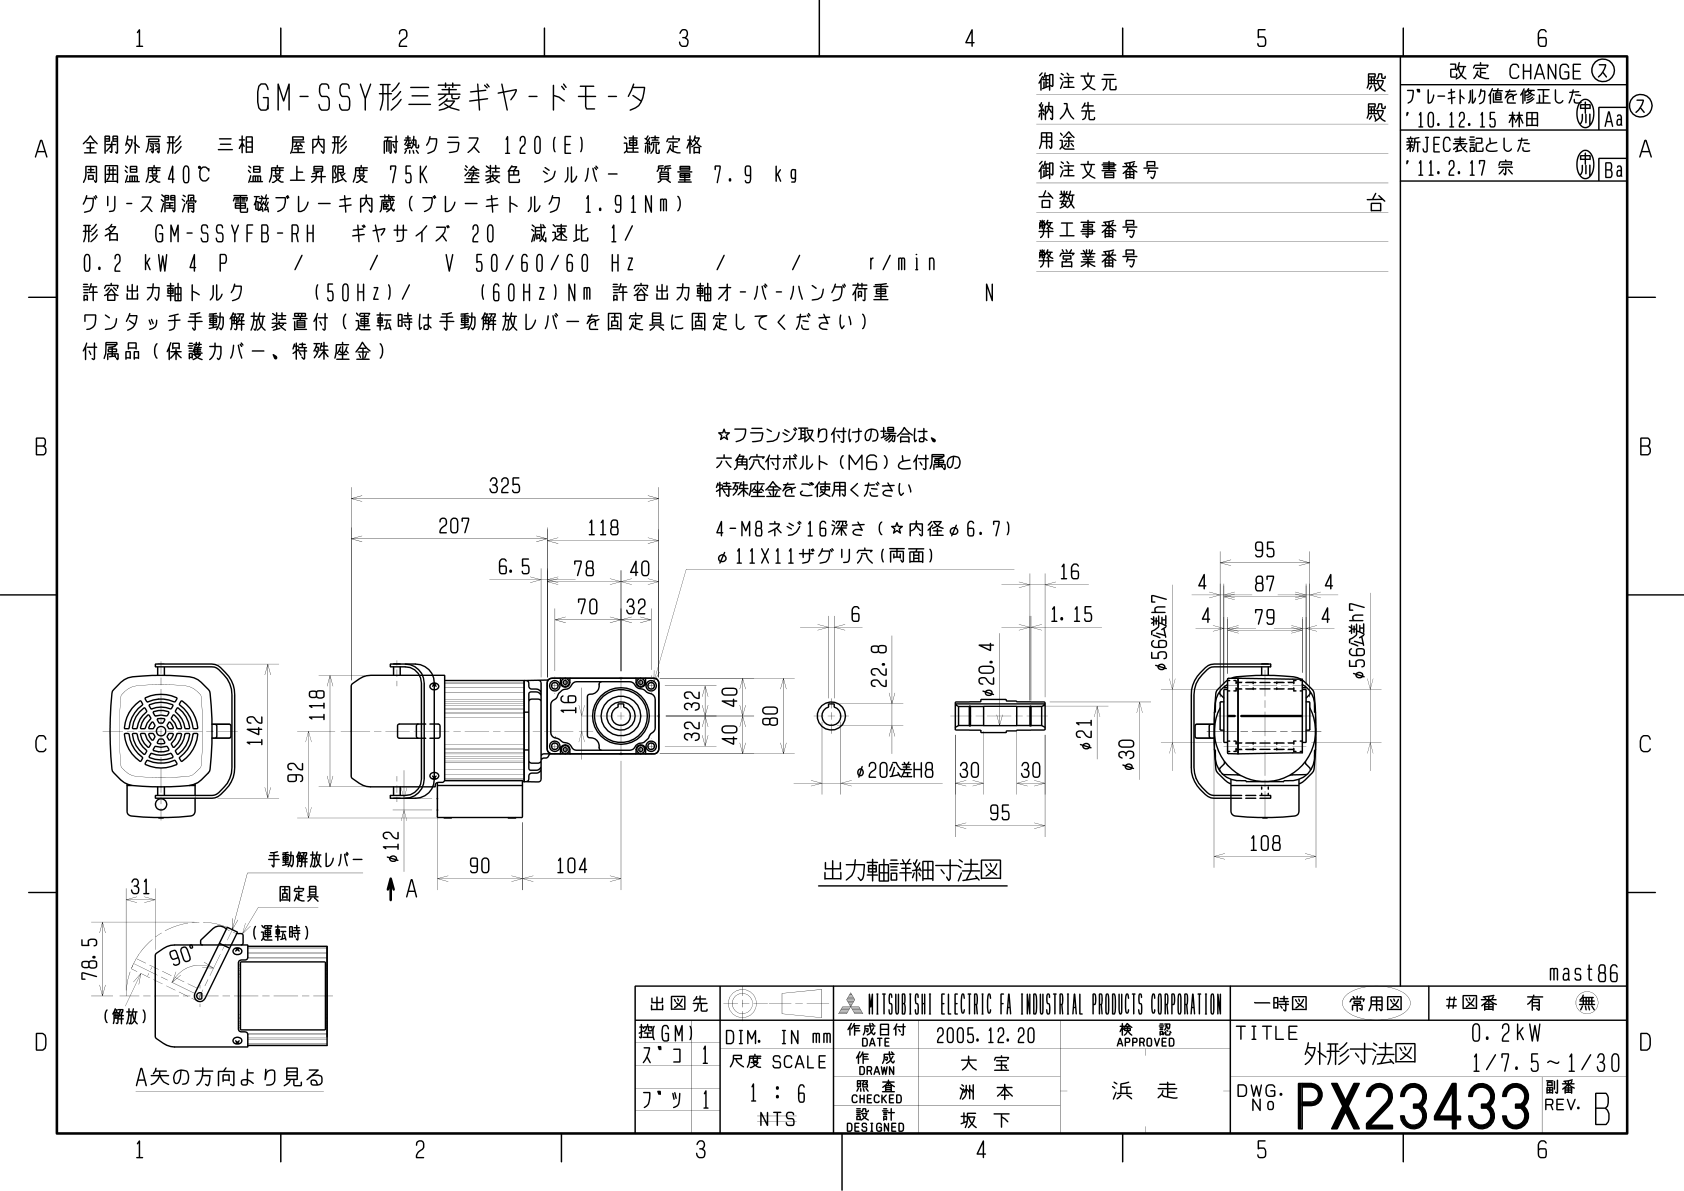GM_SSY_手動解放_三相: (12, 10, 1684, 1191)
